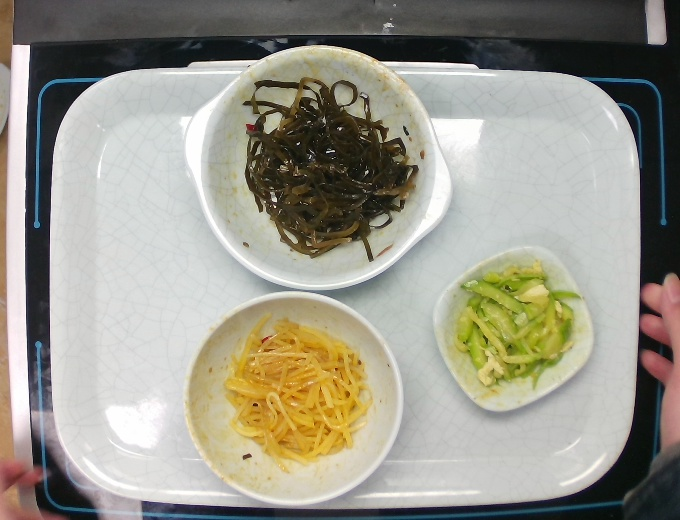JYsf-Fan_Wan: (181, 289, 405, 510)
JYsf-Shuang_Er_Wan: (182, 42, 455, 293)
JYsf-Si_Fang_Die: (429, 243, 596, 415)
